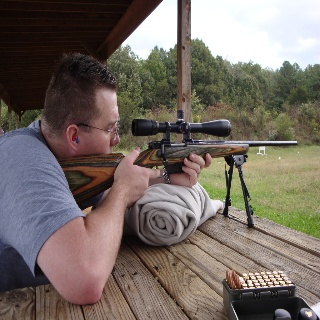rifle: (52, 110, 301, 231)
